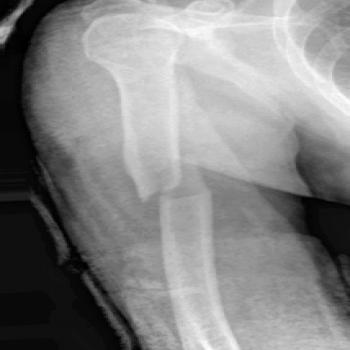Fracture: (123, 169, 215, 214)
